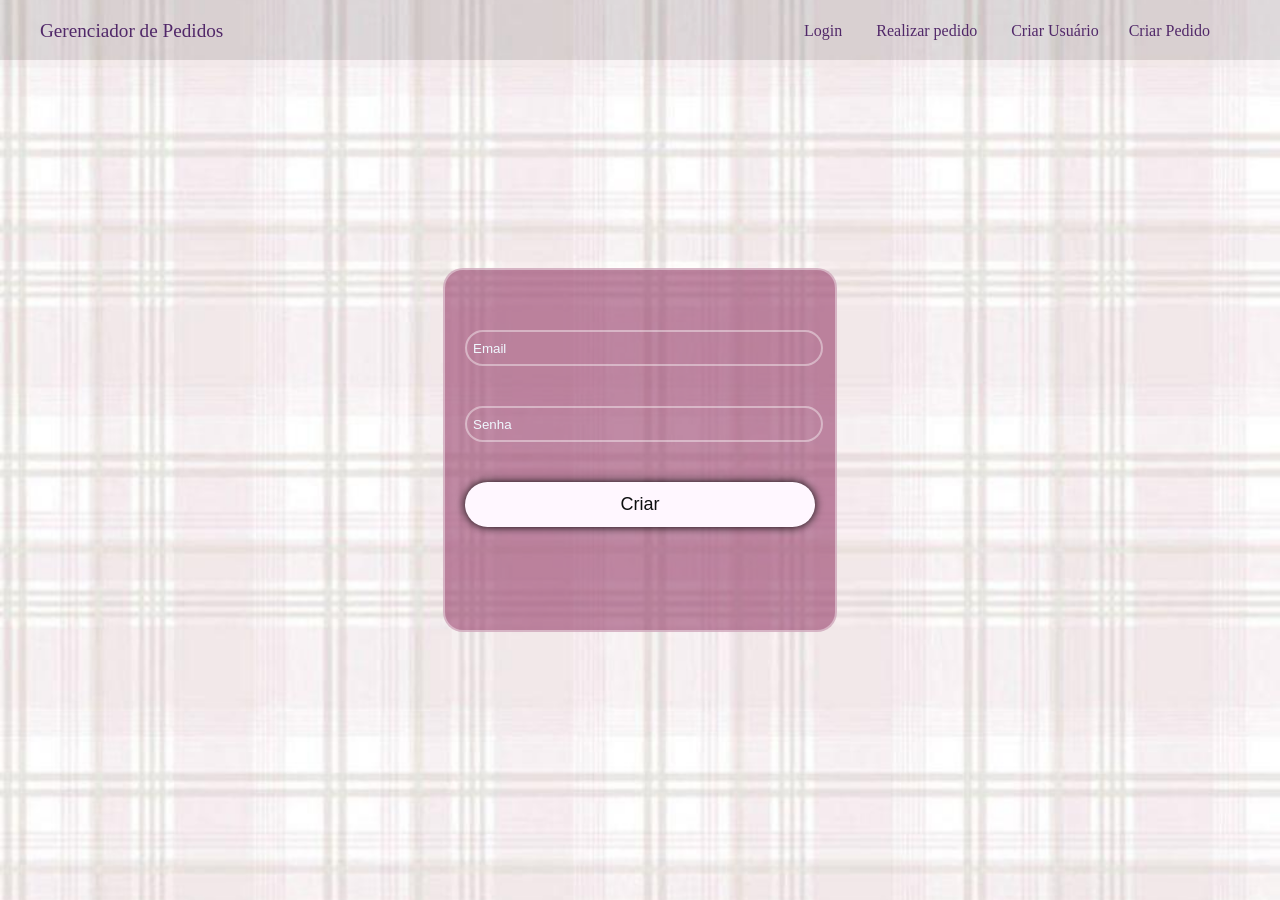
Test: LoginFormRendering › Testa a submissão do formulário com resposta de sucesso
The image size is (1280, 900).
Type "teste@teste.com" into the field with placeholder "Email" at (644, 348), box [465,330,823,366]
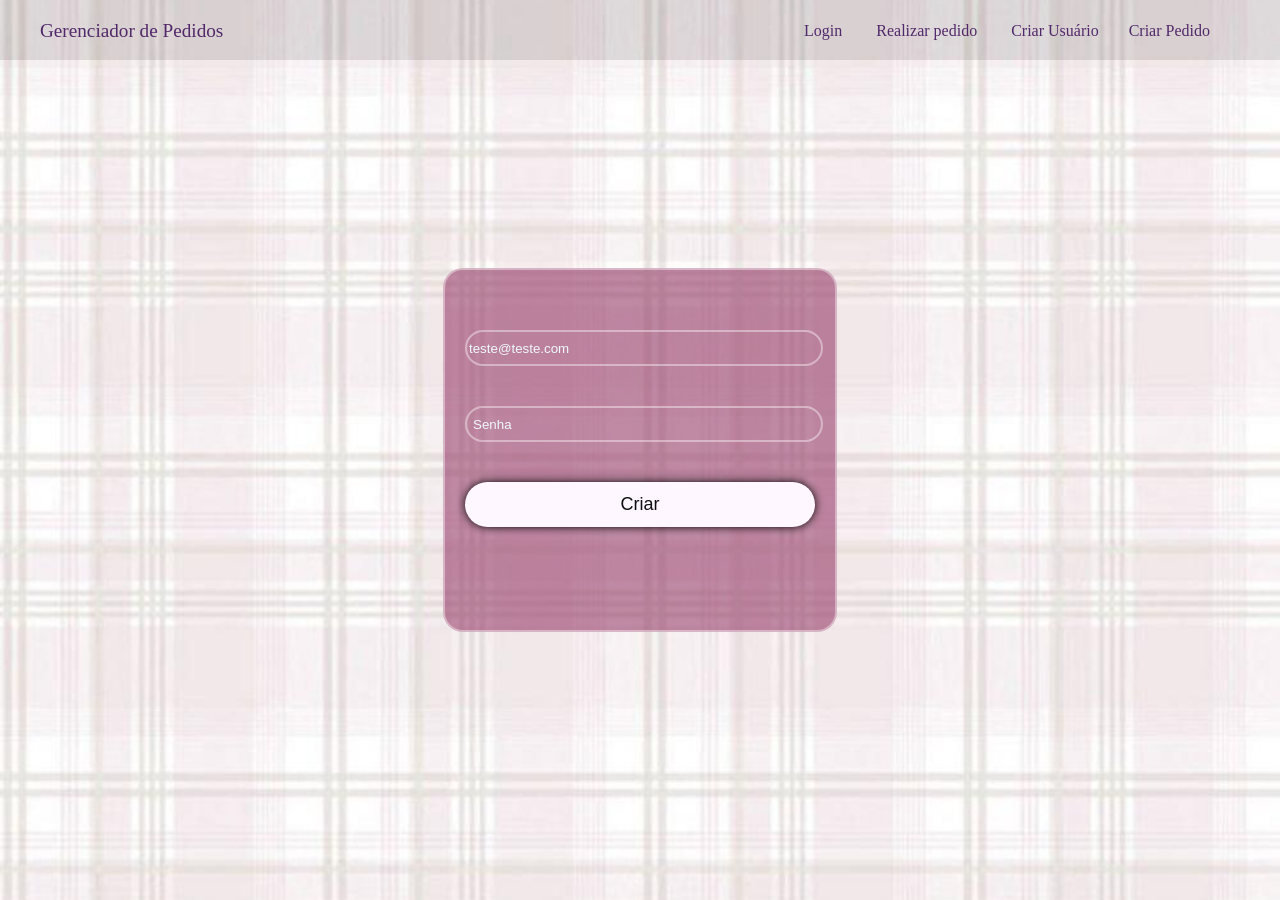
Type "password" into the field with placeholder "Senha" at (644, 424), box [465,406,823,442]
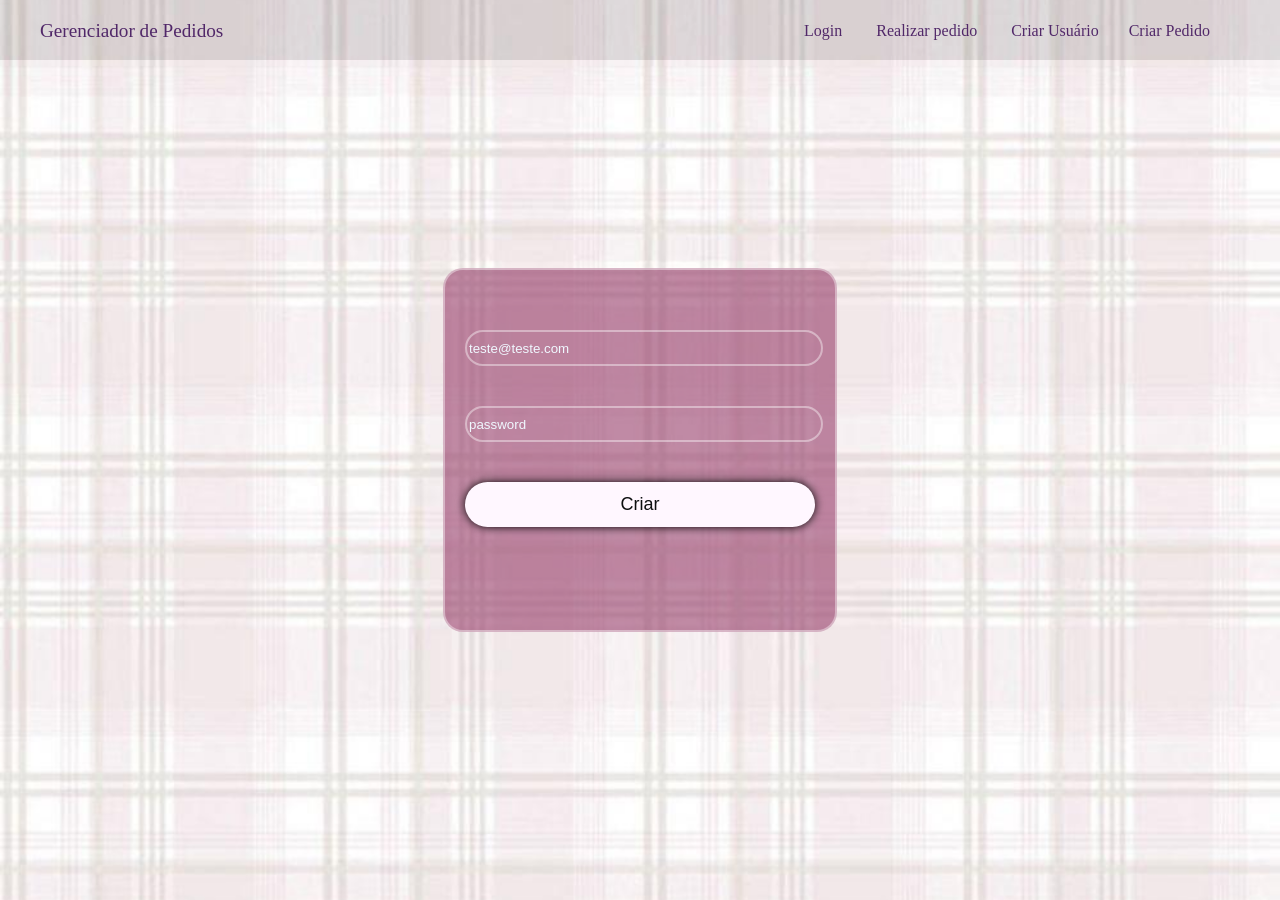
Click the button "Criar" at (640, 504), box [465,482,815,527]
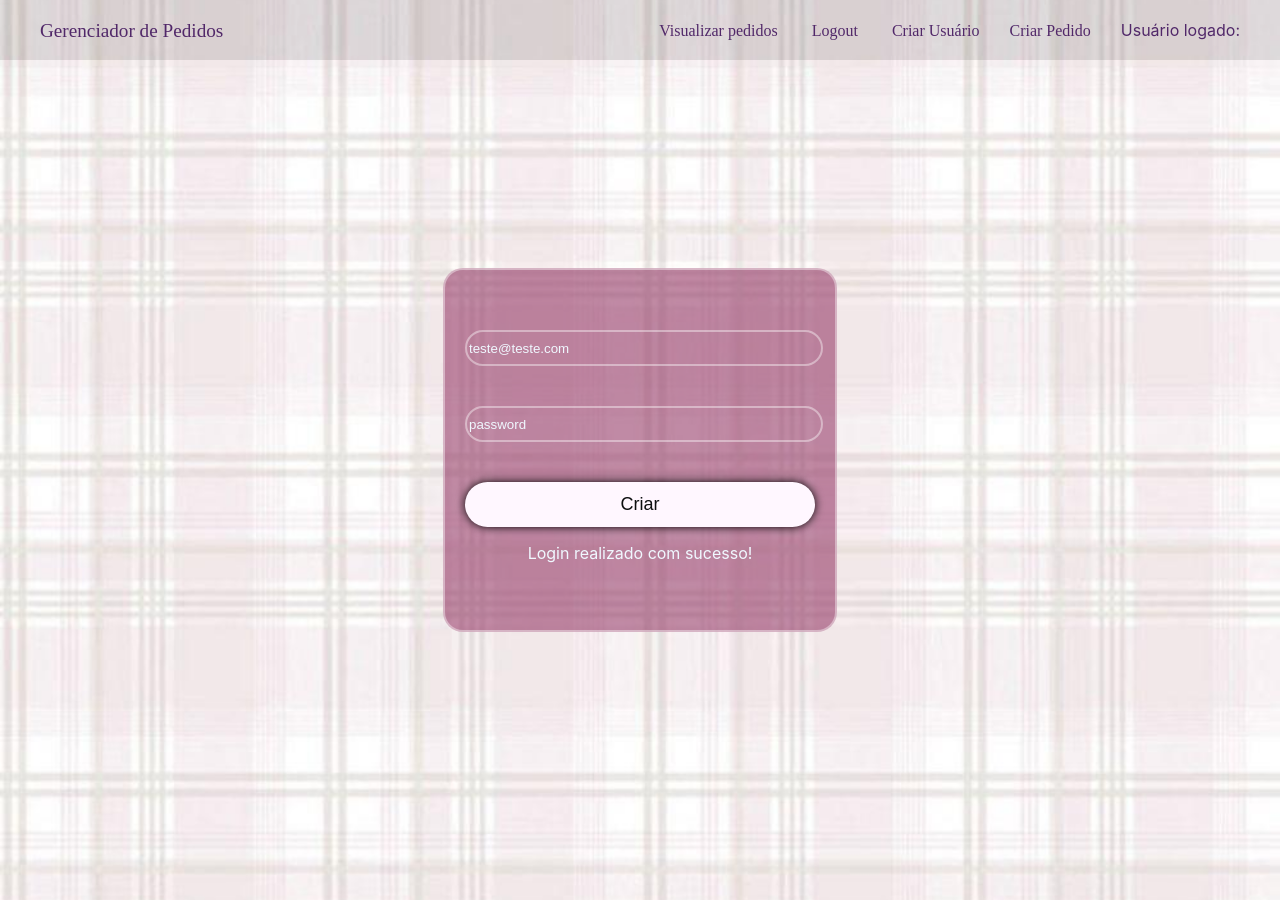
expect the text "Login realizado com sucesso!" is shown: met, box [528,543,752,563]
